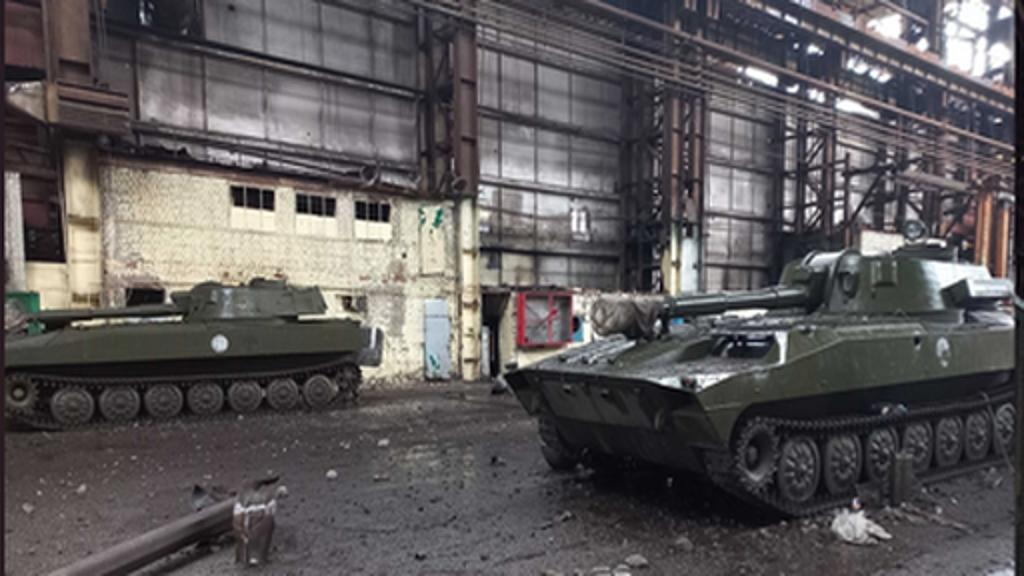ART: (496, 220, 1014, 518), (0, 264, 372, 434)
